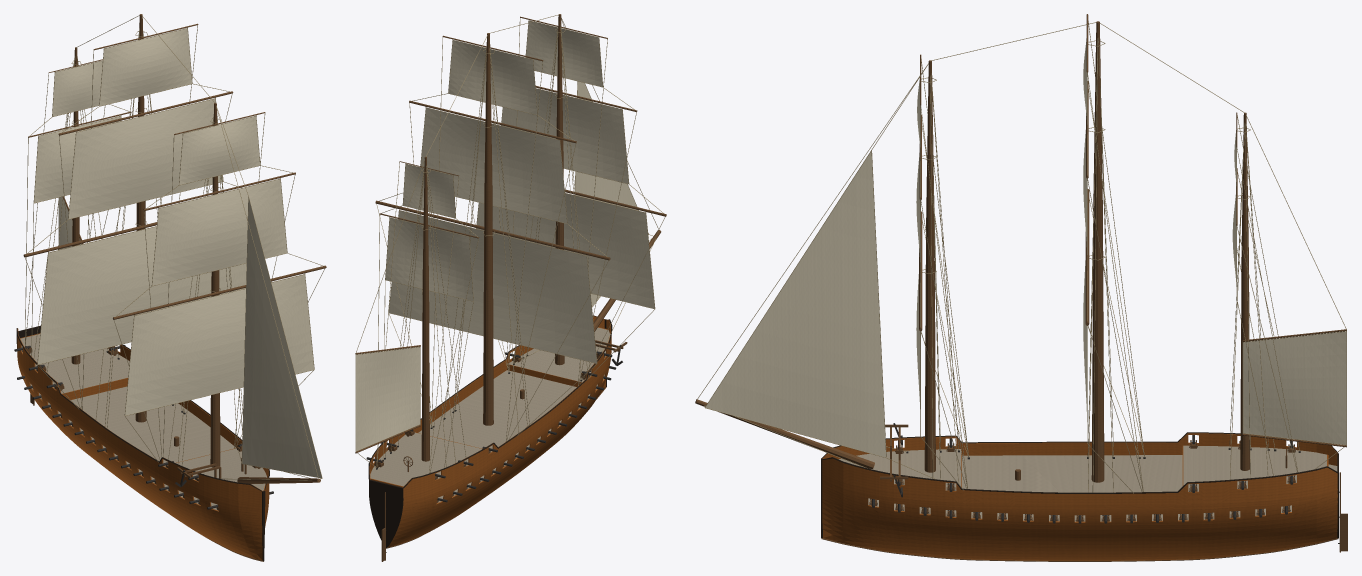
3 renders of one model, left to right at view 1: azimuth 30°, elevation 25°; view 2: azimuth 150°, elevation 25°; view 3: azimuth 270°, elevation 25°, orthographic. The views are drawn at different scales.
Parts seen in each view (by area): view 1: lod2_fore_square_00, lod2_main_square_00, lod2_hull_shell_starboard, lod2_jib_00, lod2_main_square_01, lod2_fore_square_01, lod2_main_deck, lod2_main_square_02, lod2_fore_square_02, lod2_castle_deck_0, lod2_mizzen_square_00, lod2_mizzen_square_01 (+14 smaller); view 2: lod2_main_square_00, lod2_main_square_01, lod2_hull_shell_starboard, lod2_fore_square_00, lod2_fore_square_01, lod2_main_deck, lod2_mizzen_gaff_02, lod2_mizzen_square_00, lod2_main_square_02, lod2_main, lod2_fore_square_02, lod2_castle_deck_0 (+15 smaller); view 3: lod2_hull_shell_port, lod2_jib_00, lod2_mizzen_gaff_02, lod2_main_deck, lod2_hull_shell_starboard, lod2_main, lod2_castle_deck_0, lod2_fore, lod2_castle_deck_1, lod2_mizzen, lod2_gunwale_port, lod2_bowsprit (+1 smaller).
Boxes of the visible parts, x1,y1,x2,y2 form: lod2_fore_square_00: [125, 274, 314, 415]; lod2_main_square_00: [37, 226, 246, 364]; lod2_hull_shell_starboard: [17, 328, 262, 560]; lod2_jib_00: [242, 198, 321, 477]; lod2_main_square_01: [68, 99, 222, 218]; lod2_fore_square_01: [152, 179, 286, 285]; lod2_main_deck: [70, 386, 235, 463]; lod2_main_square_02: [99, 28, 191, 105]; lod2_fore_square_02: [179, 116, 259, 184]; lod2_castle_deck_0: [20, 334, 129, 393]; lod2_mizzen_square_00: [34, 116, 120, 202]; lod2_mizzen_square_01: [52, 61, 102, 116]; lod2_main_square_00: [389, 210, 596, 363]; lod2_main_square_01: [420, 108, 567, 223]; lod2_hull_shell_starboard: [387, 319, 611, 547]; lod2_fore_square_00: [476, 193, 654, 308]; lod2_fore_square_01: [501, 88, 628, 183]; lod2_main_deck: [418, 370, 576, 448]; lod2_mizzen_gaff_02: [356, 347, 420, 451]; lod2_mizzen_square_00: [385, 218, 473, 300]; lod2_main_square_02: [448, 40, 537, 114]; lod2_main: [483, 33, 493, 425]; lod2_fore_square_02: [526, 21, 602, 86]; lod2_castle_deck_0: [370, 432, 491, 486]; lod2_hull_shell_port: [822, 458, 1337, 560]; lod2_jib_00: [705, 151, 886, 457]; lod2_mizzen_gaff_02: [1243, 331, 1346, 444]; lod2_main_deck: [962, 455, 1337, 492]; lod2_hull_shell_starboard: [822, 433, 1337, 465]; lod2_main: [1091, 21, 1104, 482]; lod2_castle_deck_0: [1183, 445, 1326, 491]; lod2_fore: [924, 60, 935, 472]; lod2_castle_deck_1: [839, 449, 961, 490]; lod2_mizzen: [1240, 112, 1249, 470]; lod2_gunwale_port: [821, 457, 1338, 493]; lod2_bowsprit: [695, 399, 874, 468].
Size of the model in its own units: 29.5 by 55.43 by 60.69.
7 materials, 7 textured.
